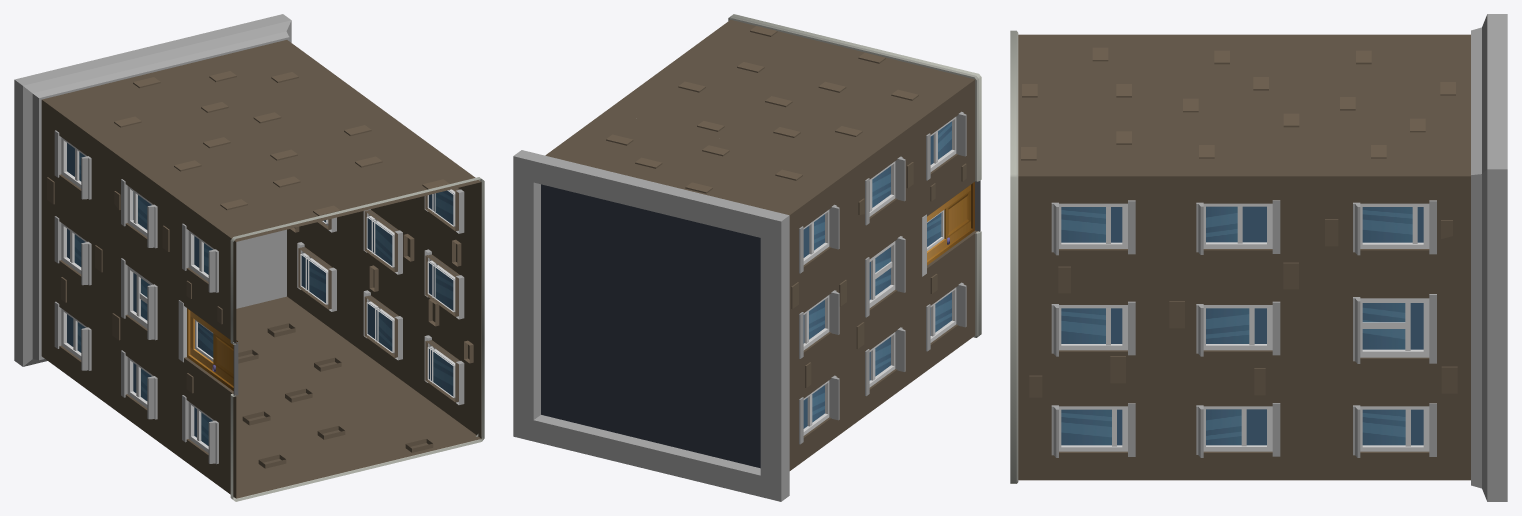
The model's file is Building_2_6_G.fbx.
3 renders of one model, left to right at view 1: azimuth 30°, elevation 25°; view 2: azimuth 150°, elevation 25°; view 3: azimuth 270°, elevation 25°, orthographic. The views are drawn at different scales.
Visible parts, largest first — view 1: Building_2_6_G; view 2: Building_2_6_G; view 3: Building_2_6_G.
Boxes of the visible parts, left/top/right/bottom form: Building_2_6_G: left=14, top=14, right=484, bottom=501; Building_2_6_G: left=513, top=14, right=981, bottom=501; Building_2_6_G: left=1010, top=14, right=1507, bottom=501.
Size of the model in its own units: 620 by 620 by 840.
